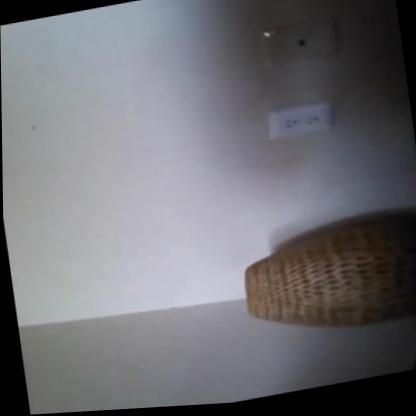OUTLET: (264, 97, 333, 139)
